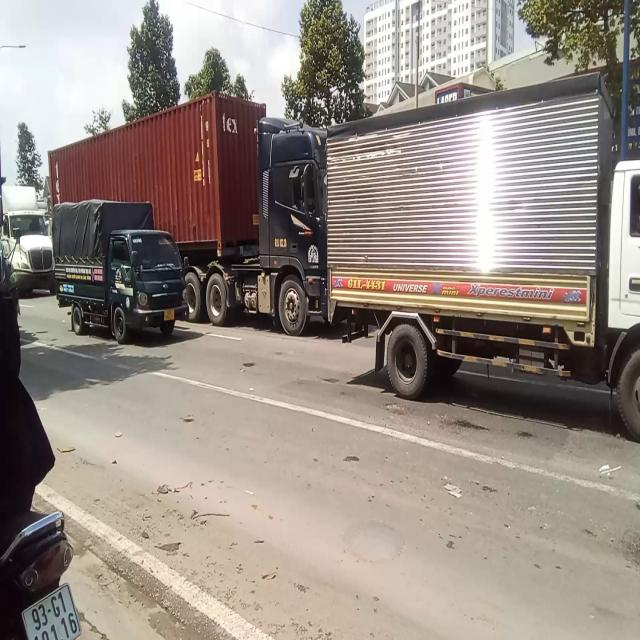bien_trang: (20, 581, 88, 640)
